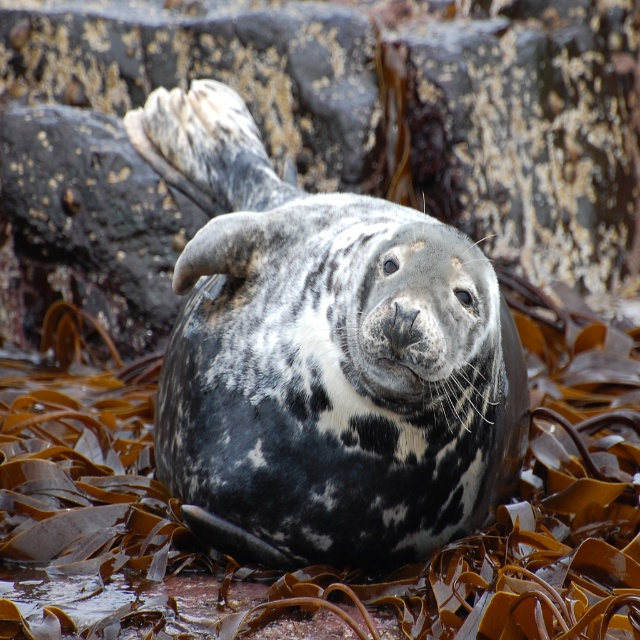Harbor seal: (107, 77, 536, 579)
